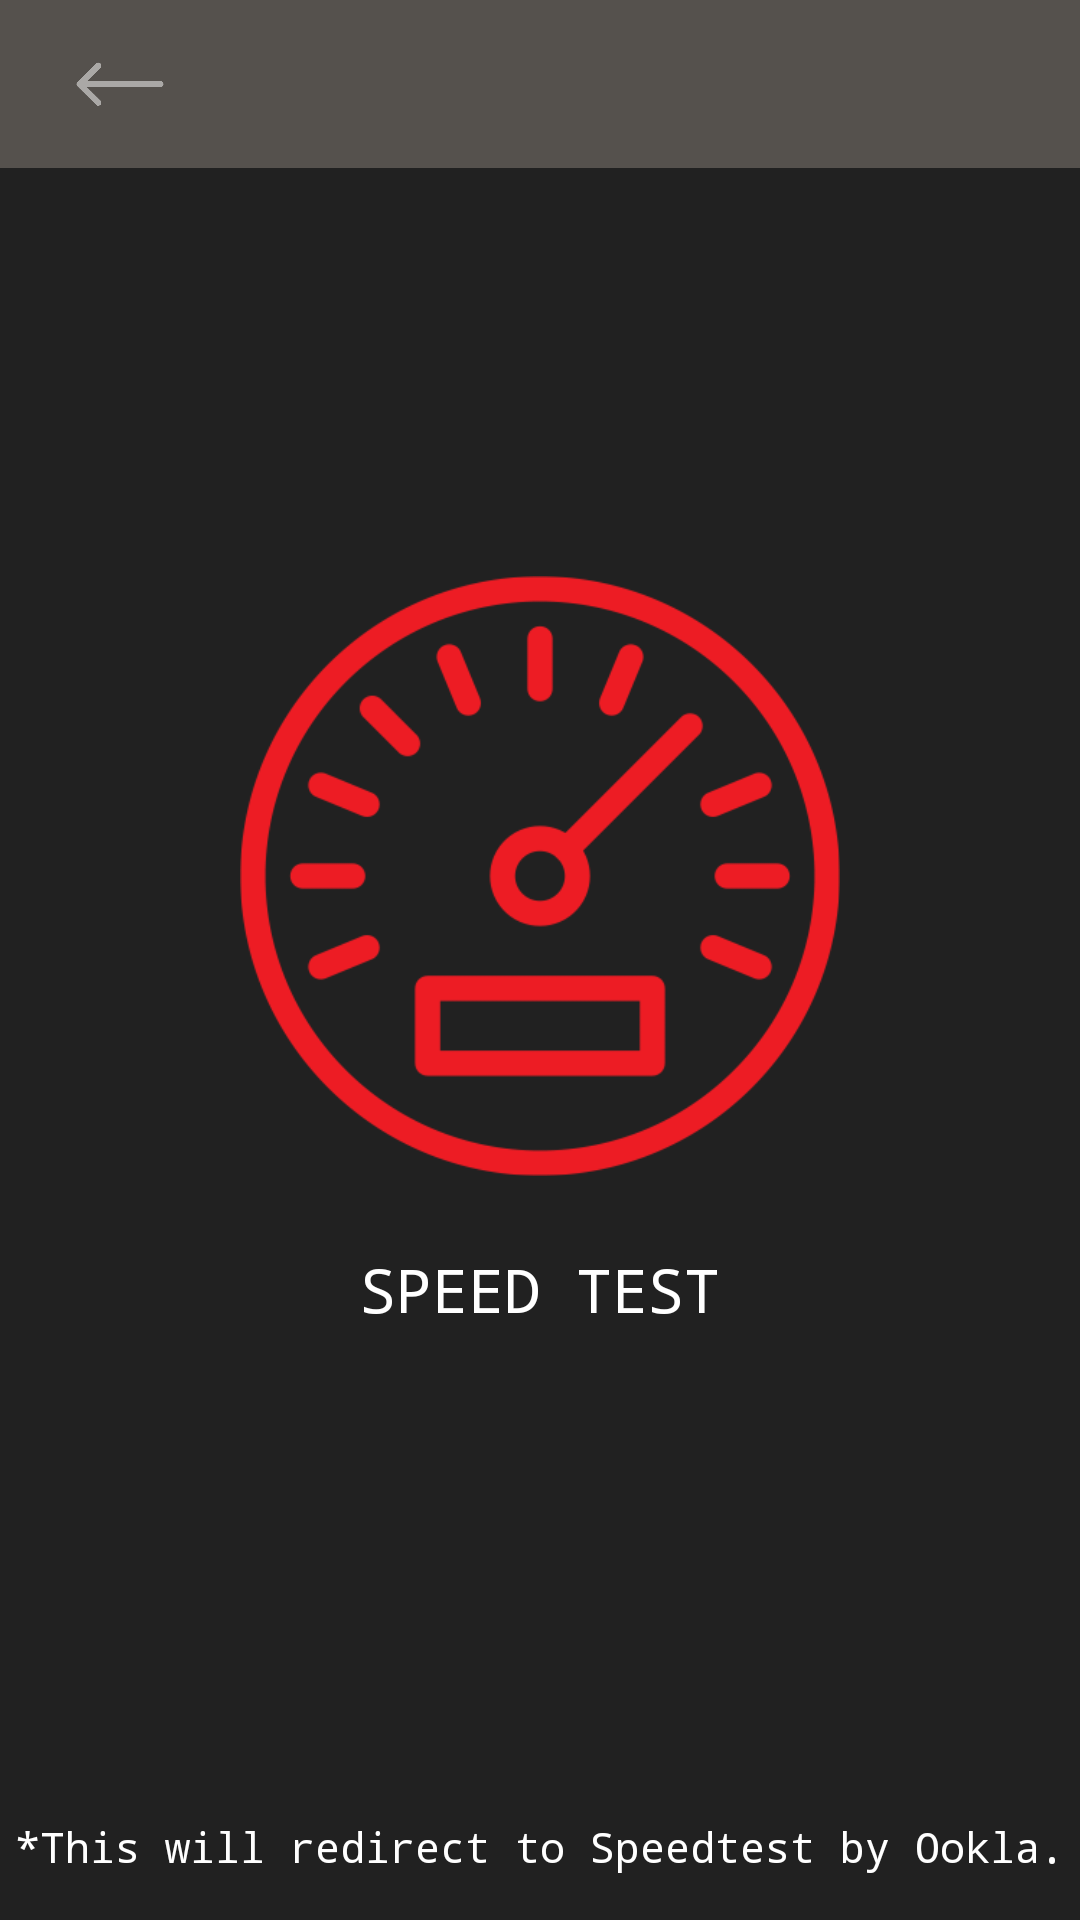

Screen size 1080px x 1920px. Icon name, then its box in pixels as region(x1, y1, x2, y2):
back: region(76, 63, 164, 106)
